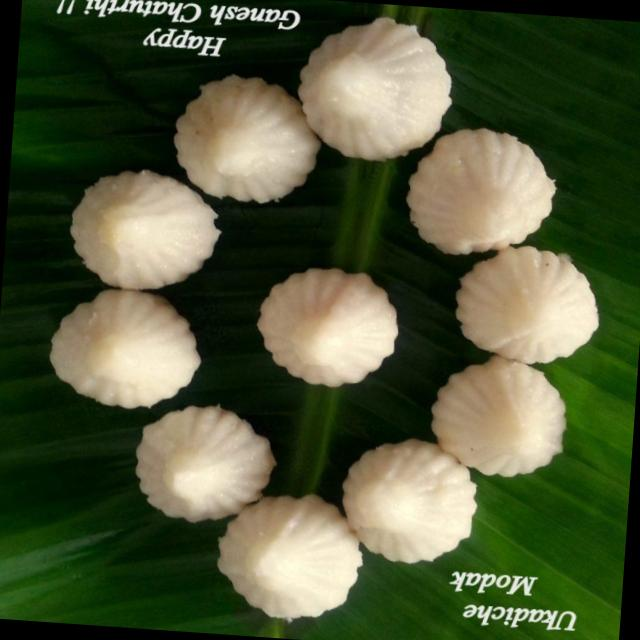modak: (288, 12, 472, 174), (104, 389, 285, 543), (168, 68, 326, 224), (64, 146, 214, 308), (407, 137, 572, 276), (429, 348, 564, 502), (441, 242, 596, 372), (216, 489, 359, 617), (263, 273, 403, 388), (68, 272, 183, 402), (356, 438, 484, 538)
